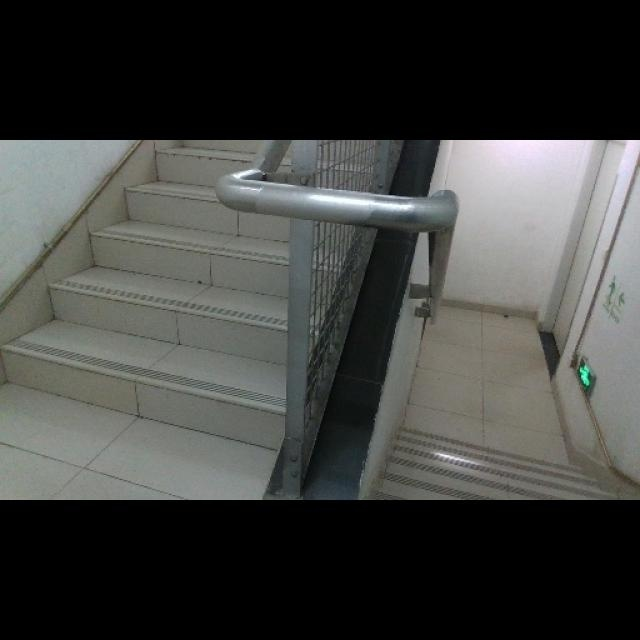stair: (16, 141, 208, 403), (404, 425, 599, 496)
